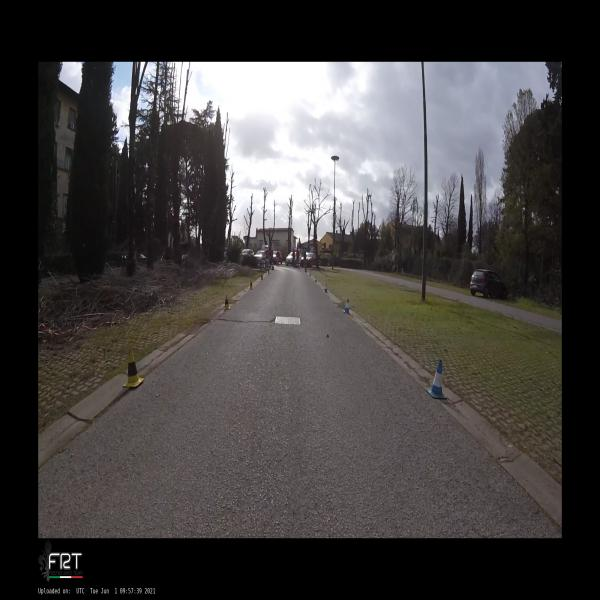blue_cone: (425, 359, 447, 399), (343, 298, 350, 314), (324, 283, 328, 293), (314, 276, 317, 282), (309, 272, 311, 276)
yellow_cone: (123, 348, 144, 387), (223, 294, 231, 309), (250, 280, 253, 290), (261, 275, 263, 280)
